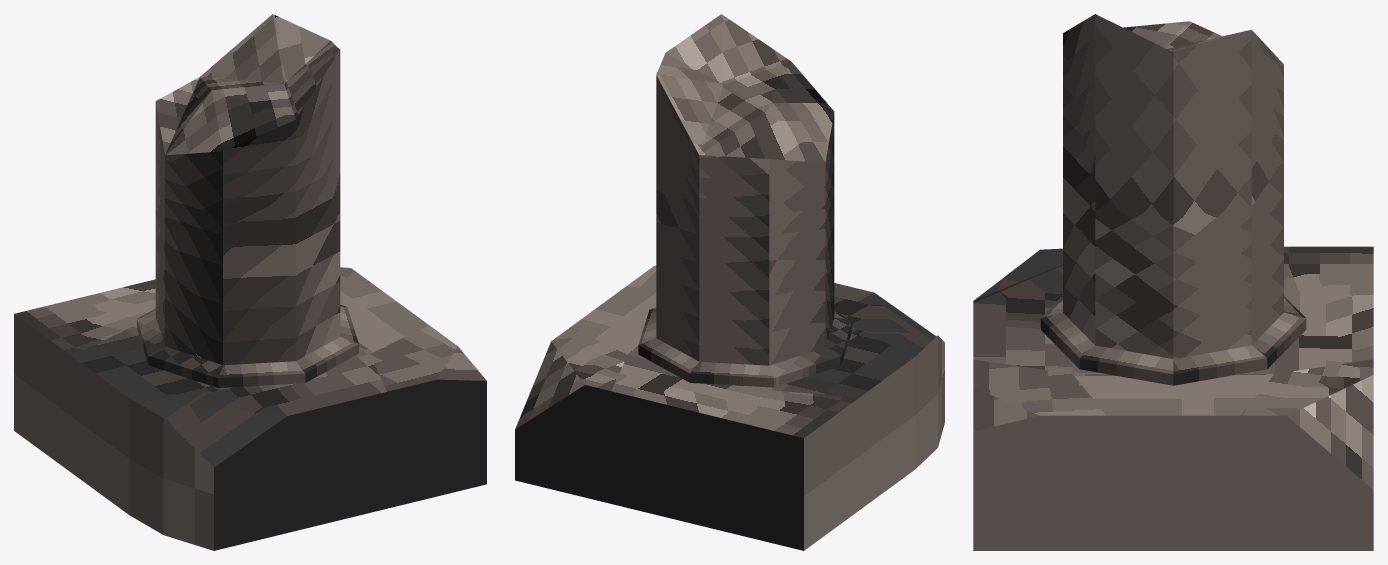
File: broken_pillar_544x01.gltf
3 views of the same model, side by side, from view 1: azimuth 30°, elevation 25°; view 2: azimuth 150°, elevation 25°; view 3: azimuth 270°, elevation 25° (orthographic). The views are drawn at different scales.
Parts seen in each view (by area): view 1: broken_pillar_544x01; view 2: broken_pillar_544x01; view 3: broken_pillar_544x01.
Boxes of the visible parts, bbox=[...] form: broken_pillar_544x01: bbox=[14, 14, 486, 550]; broken_pillar_544x01: bbox=[515, 14, 944, 550]; broken_pillar_544x01: bbox=[973, 14, 1373, 550].
Size of the model in its own units: 1.42 by 1.9 by 1.42.
1 material, 1 textured.
